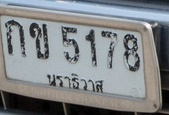txt01: (3, 18, 27, 58)
txt02: (27, 22, 51, 61)
